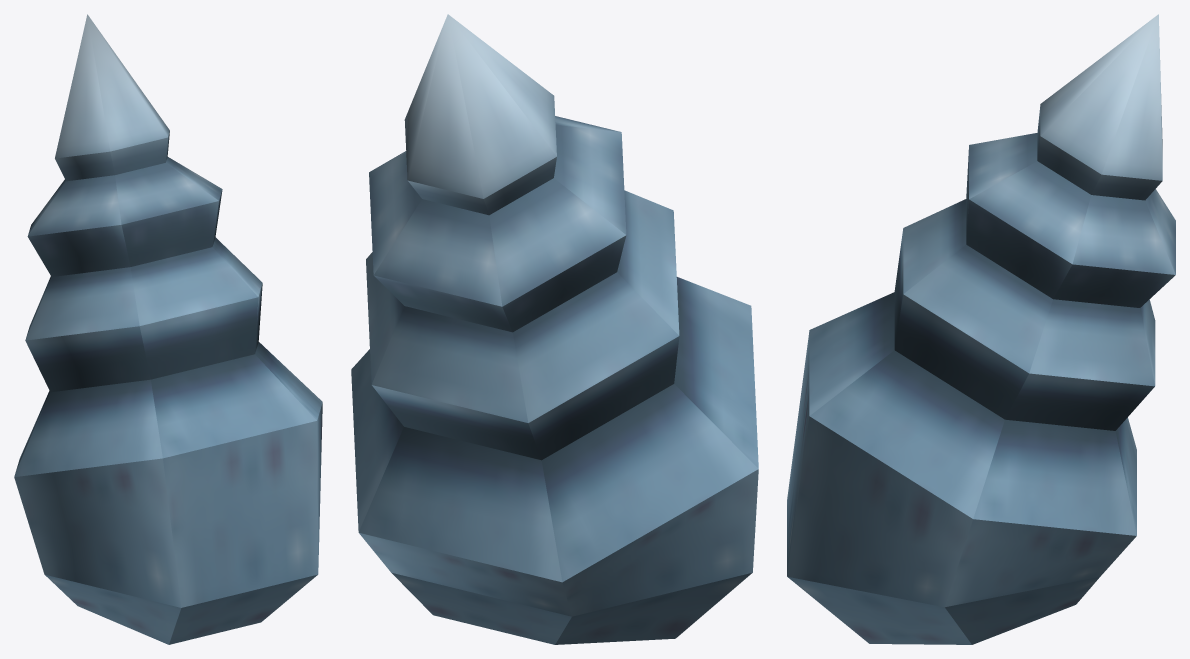
Rendered from SeaShell_02.FBX.
3 renders of one model, left to right at view 1: azimuth 30°, elevation 25°; view 2: azimuth 150°, elevation 25°; view 3: azimuth 270°, elevation 25°, orthographic. The views are drawn at different scales.
Parts seen in each view (by area): view 1: SeaShell_02; view 2: SeaShell_02; view 3: SeaShell_02.
Boxes of the visible parts, box(x1,y1,x2,y2) form: SeaShell_02: box(14, 14, 322, 644); SeaShell_02: box(351, 14, 758, 644); SeaShell_02: box(787, 14, 1175, 644).
Size of the model in its own units: 0.1964 by 0.1873 by 0.3208.
